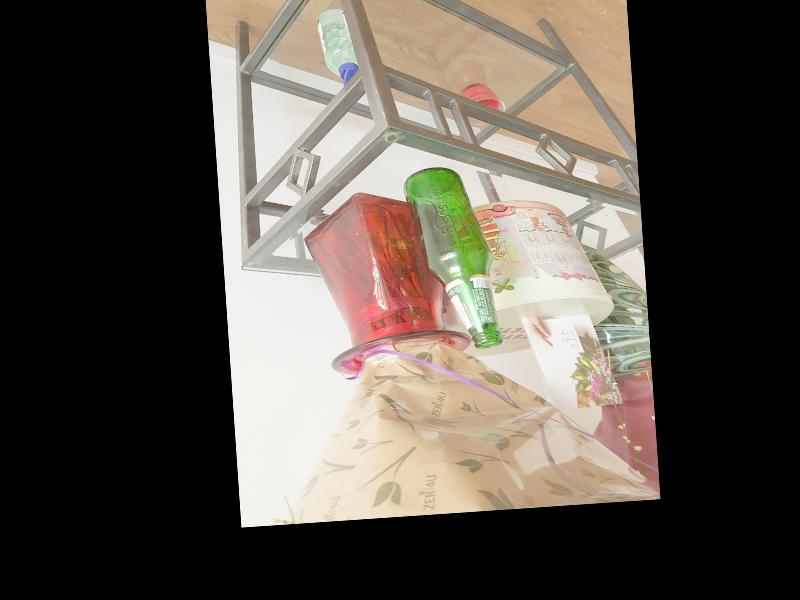Beer: (403, 162, 500, 353)
